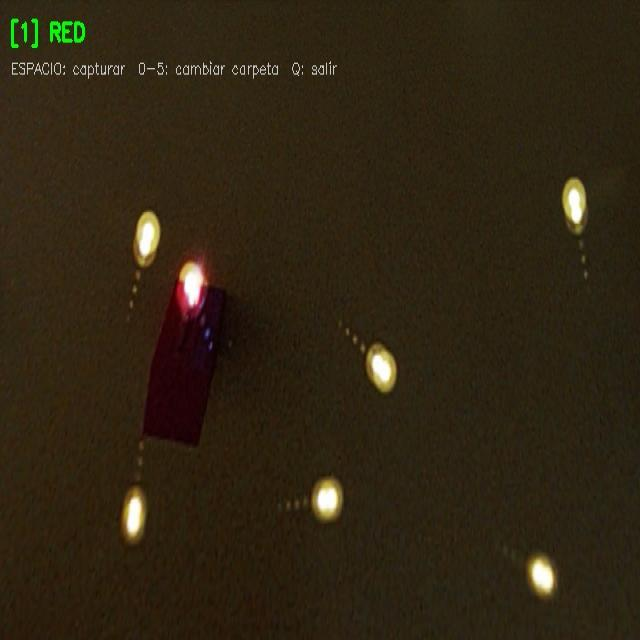red: (145, 282, 220, 446)
